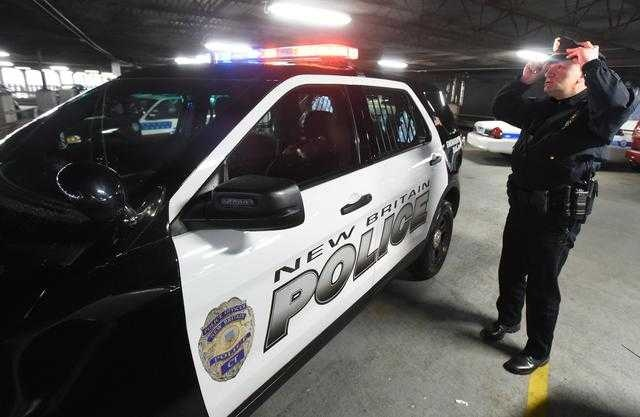Police Car: (3, 28, 463, 417)
